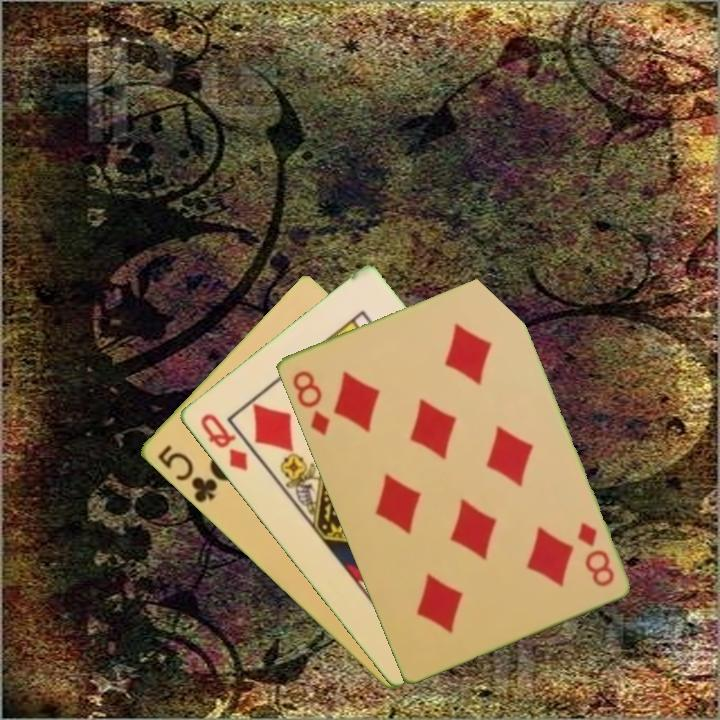5c: (153, 441, 220, 506)
8d: (288, 366, 333, 439), (573, 518, 617, 590)
Qd: (196, 409, 251, 474)
